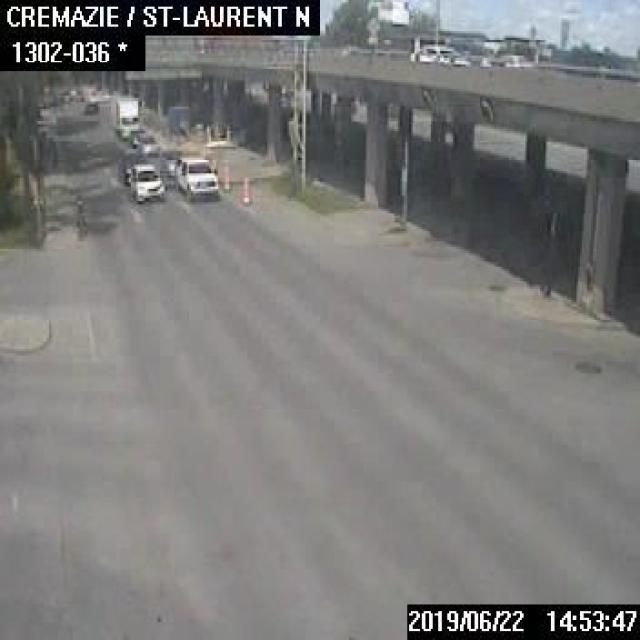construction: (222, 151, 231, 193), (240, 169, 249, 207)
vehicle: (174, 153, 218, 198), (126, 163, 164, 201), (408, 40, 467, 64), (110, 94, 141, 136), (477, 49, 539, 67), (116, 152, 146, 185), (160, 148, 182, 177), (129, 126, 150, 146), (138, 134, 158, 154), (84, 98, 95, 111)
